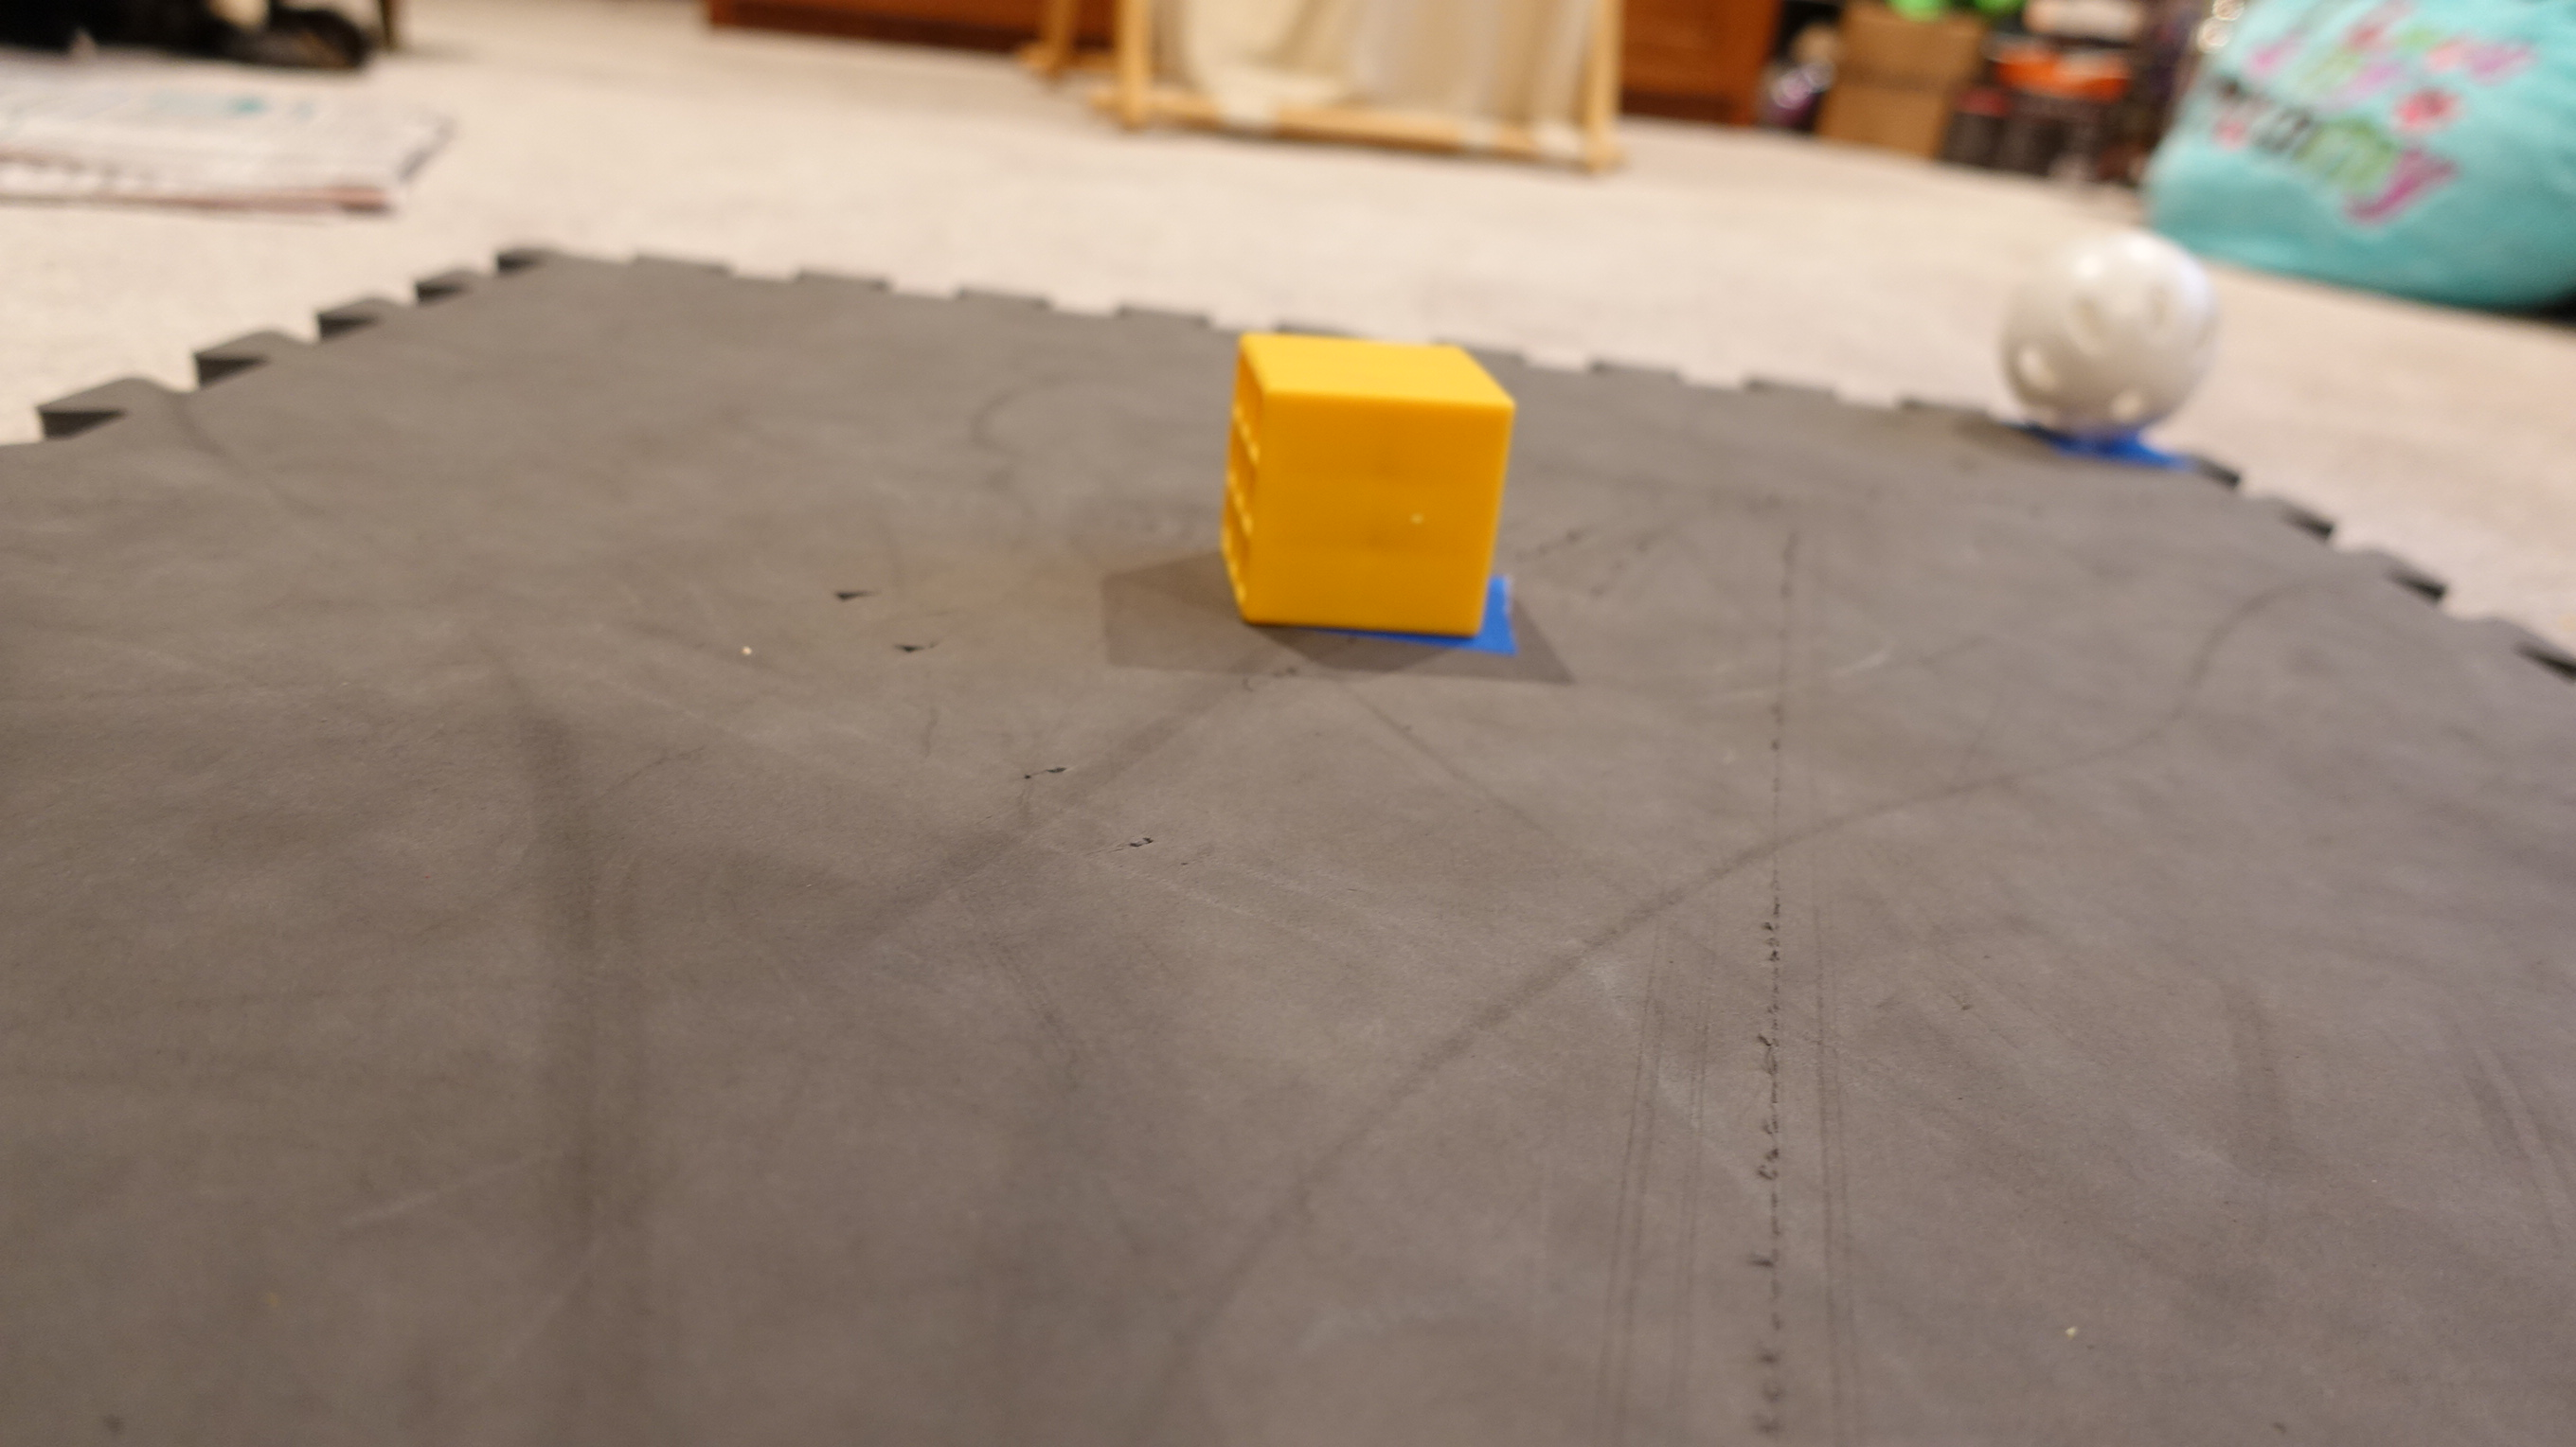gold: (1215, 315, 1520, 640)
silver: (1994, 218, 2229, 451)
